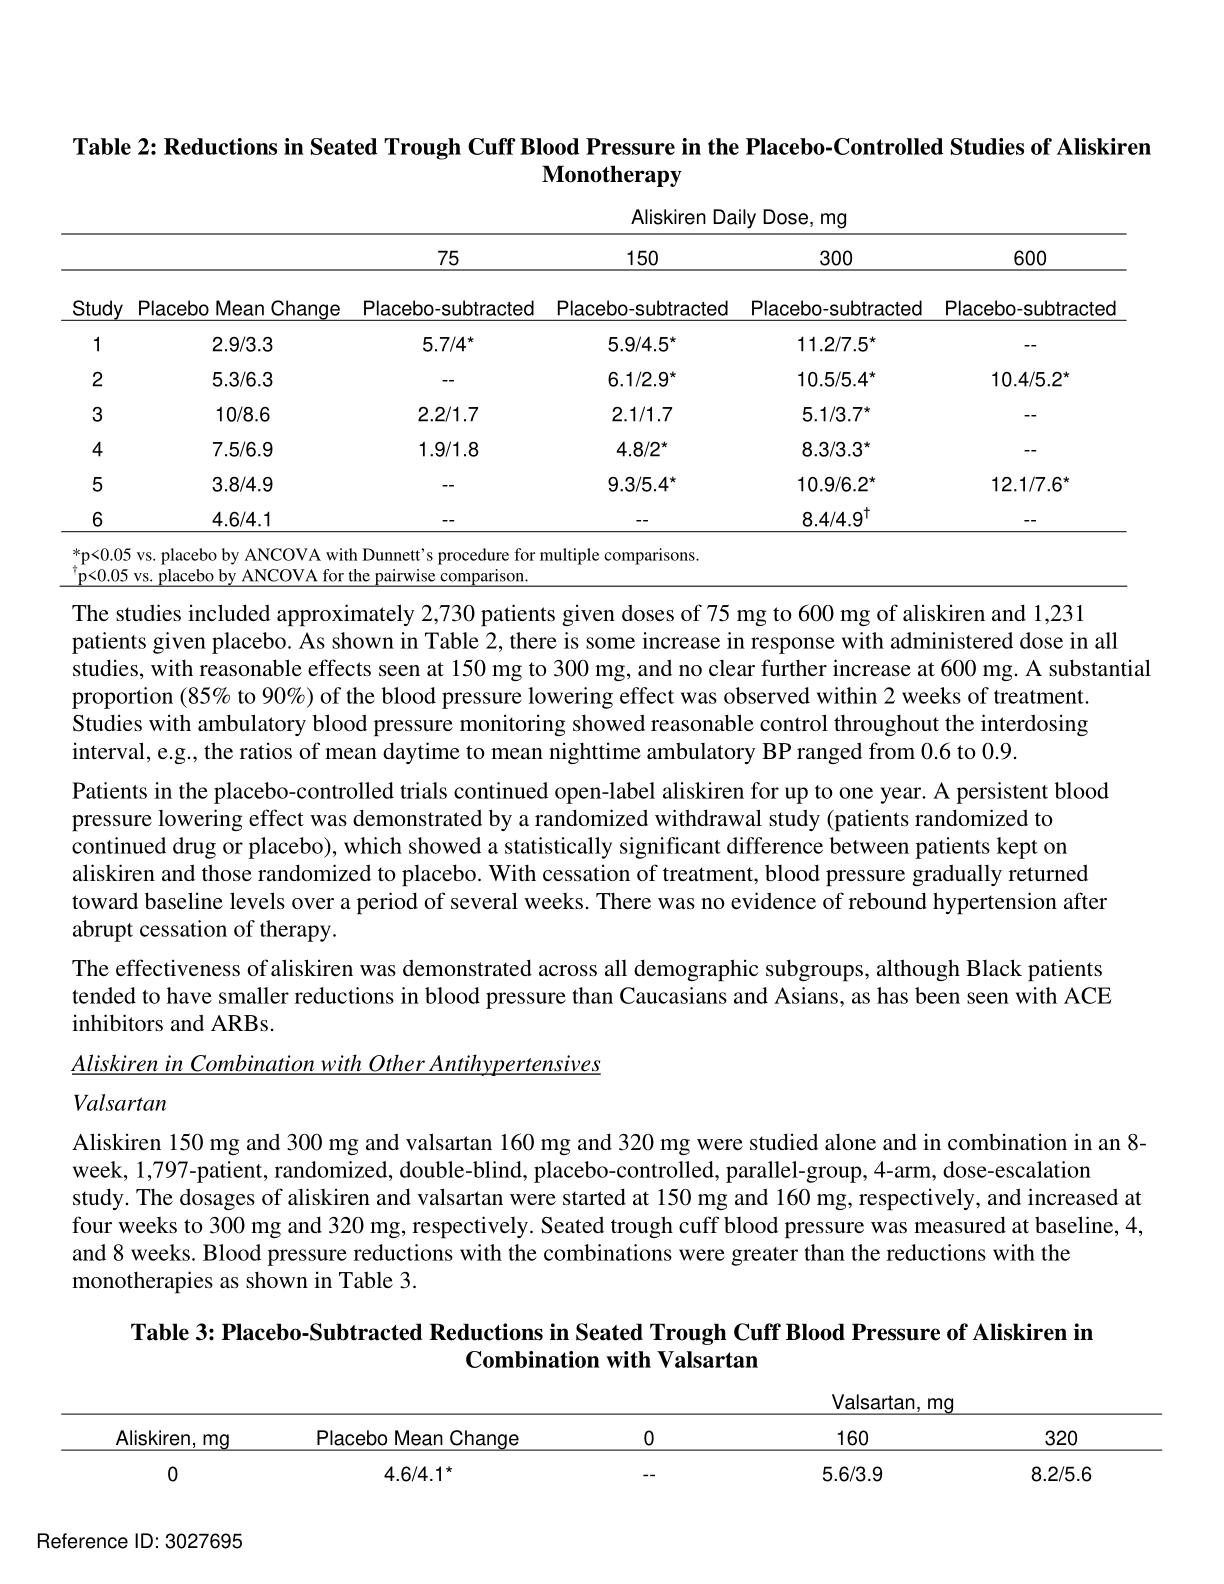partial_lined_merged_cells: (60, 202, 1129, 534), (60, 1386, 1164, 1486)
